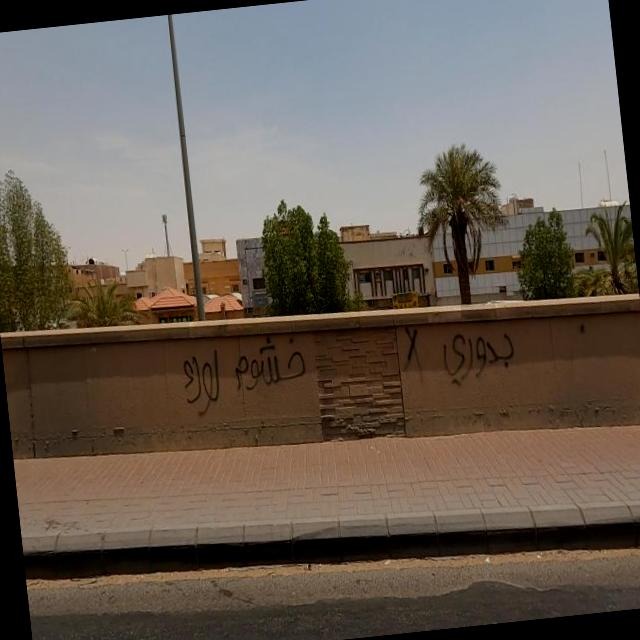debris: (67, 238, 392, 489), (320, 255, 590, 427)
